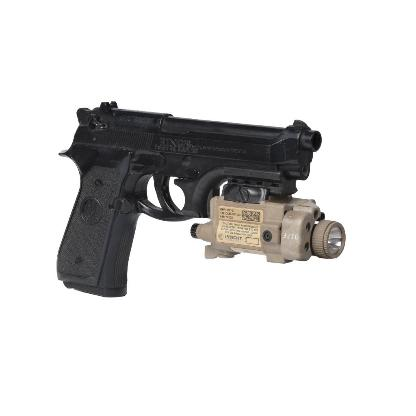gun: (55, 98, 323, 296)
